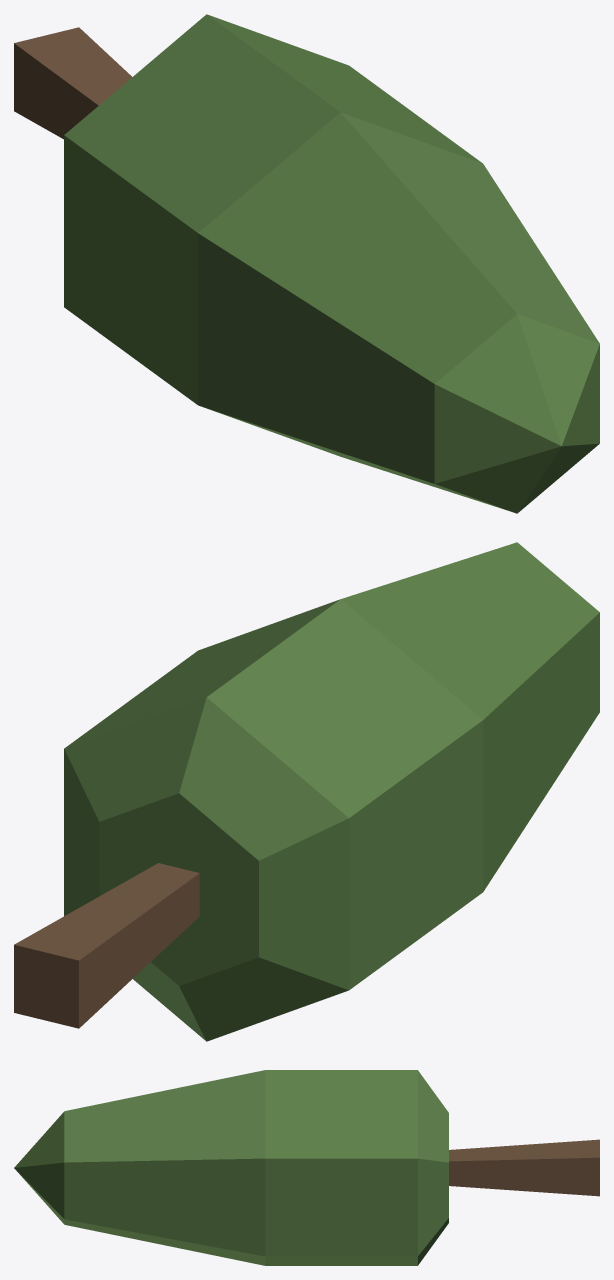
Rendered from tree-model-small-14-ft.obj.
3 views of the same model, one above another, from view 1: azimuth 30°, elevation 25°; view 2: azimuth 150°, elevation 25°; view 3: azimuth 270°, elevation 25° (orthographic). The views are drawn at different scales.
Parts seen in each view (by area): view 1: tree-model-small-14-ft; view 2: tree-model-small-14-ft; view 3: tree-model-small-14-ft.
Boxes of the visible parts, x1,y1,x2,y2 form: tree-model-small-14-ft: (14, 14, 599, 513); tree-model-small-14-ft: (14, 542, 599, 1041); tree-model-small-14-ft: (14, 1070, 599, 1265).
Size of the model in its own units: 53.67 by 61.98 by 168.
